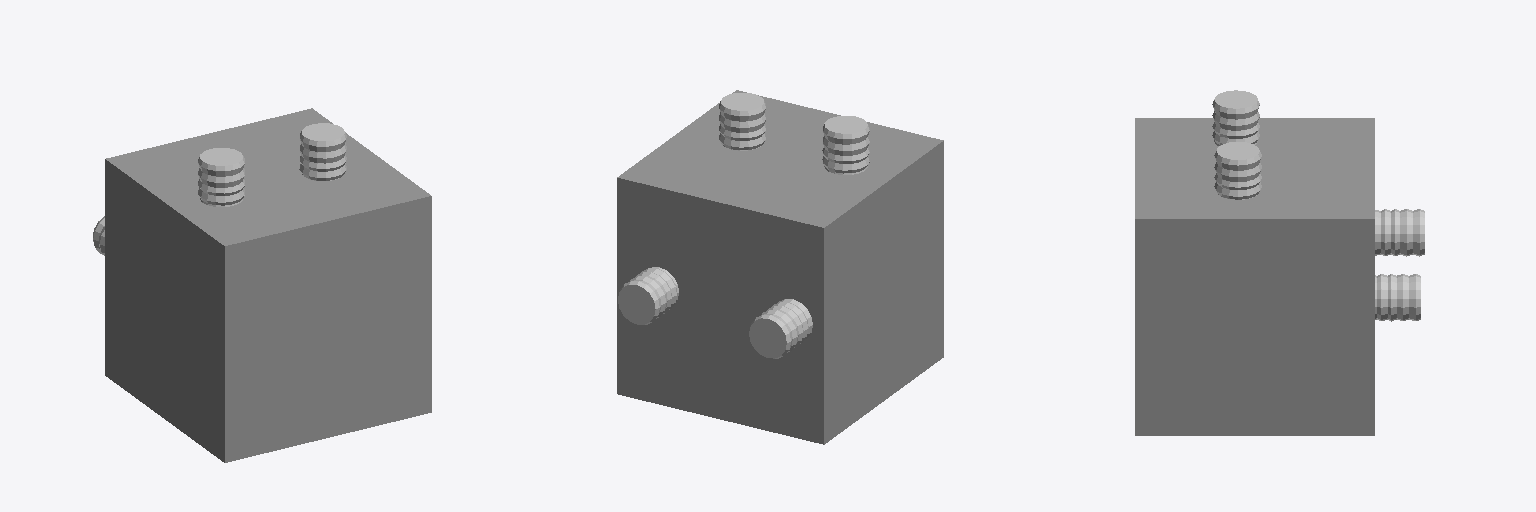
Rendered from Transformer.obj.
3 views of the same model, side by side, from view 1: azimuth 30°, elevation 25°; view 2: azimuth 150°, elevation 25°; view 3: azimuth 270°, elevation 25° (orthographic).
Parts seen in each view (by area): view 1: main, g1, p1; view 2: main, g0, p0, g1, p1; view 3: main, p1, g1, g0, p0.
Boxes of the visible parts, x1,y1,x2,y2 form: main: [105, 108, 431, 462]; g1: [198, 148, 244, 206]; p1: [299, 123, 346, 180]; main: [617, 90, 943, 444]; g0: [749, 299, 812, 358]; p0: [618, 267, 678, 324]; g1: [822, 116, 869, 174]; p1: [719, 93, 765, 150]; main: [1135, 118, 1374, 435]; p1: [1214, 142, 1261, 199]; g1: [1212, 90, 1259, 145]; g0: [1375, 209, 1424, 256]; p0: [1375, 274, 1420, 321].
Bounding box in the file's own units: 1.8 × 2.14 × 2.18.